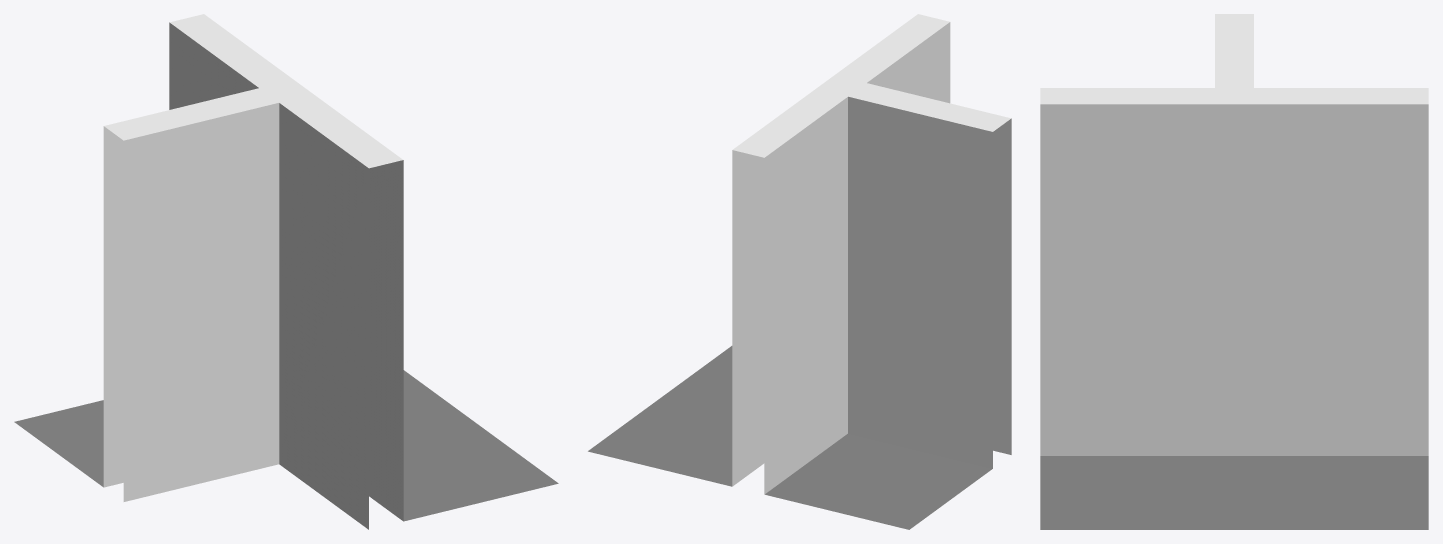
The model's file is E_Wall_T_Shape_Elevator_R_Floor.fbx.
3 renders of one model, left to right at view 1: azimuth 30°, elevation 25°; view 2: azimuth 150°, elevation 25°; view 3: azimuth 270°, elevation 25°, orthographic. The views are drawn at different scales.
Visible parts, largest first — view 1: I_Wall_T_Shape; view 2: I_Wall_T_Shape; view 3: I_Wall_T_Shape.
Part boxes in pixels (x1,y1,x2,y2): I_Wall_T_Shape: (14,14,558,529); I_Wall_T_Shape: (588,14,1011,529); I_Wall_T_Shape: (1040,14,1428,529).
Size of the model in its own units: 200 by 200 by 200.
